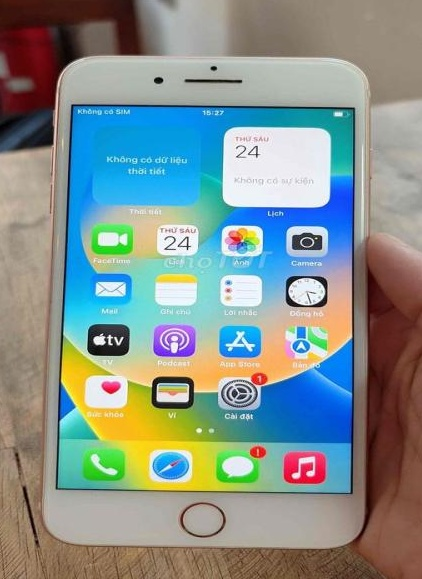scratch: (353, 136, 376, 246), (58, 51, 95, 72), (51, 128, 68, 153)
